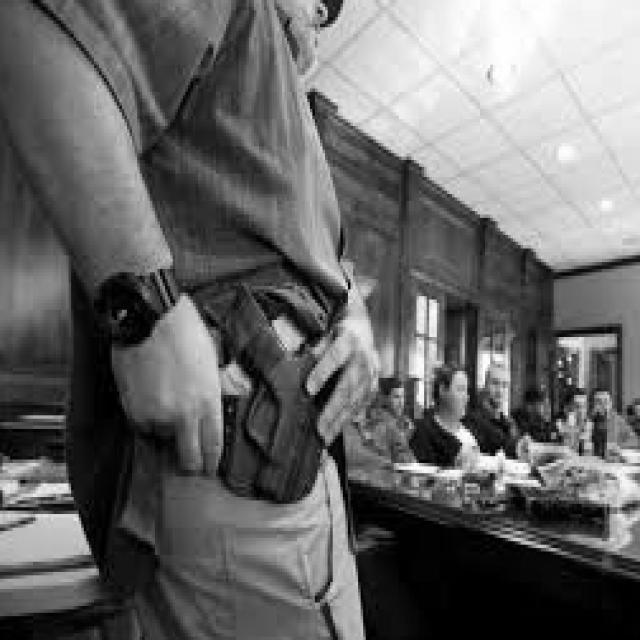gun: (209, 295, 345, 509)
